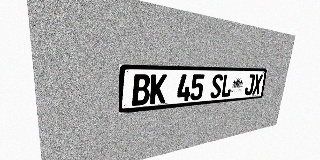4: (176, 74, 192, 102)
5: (190, 74, 205, 101)
B: (132, 74, 150, 106)
J: (244, 74, 255, 95)
K: (150, 74, 167, 104)
L: (220, 74, 233, 98)
S: (210, 74, 223, 99)
X: (252, 74, 263, 95)
